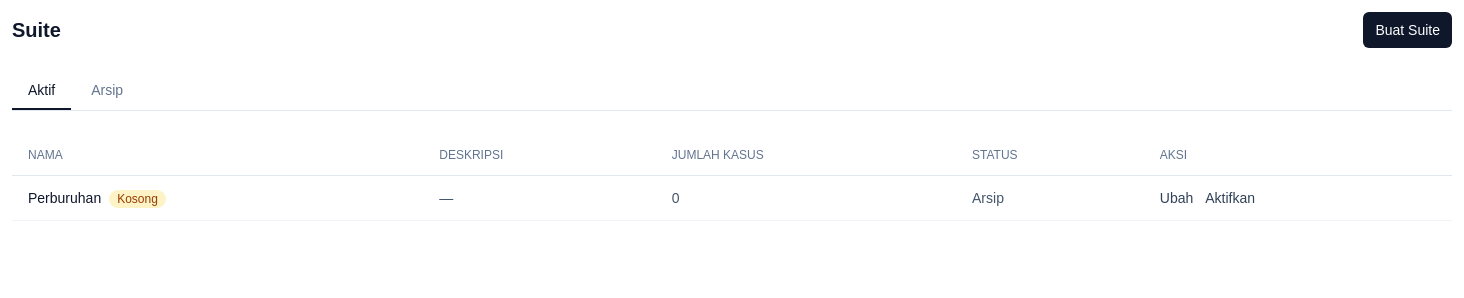
Test: SuitesPage › shows an error when unarchiving fails
This screenshot has width=1464, height=298.
Click the button with aria-label "Aktifkan Perburuhan": [1230, 198] box x1=1205 y1=188 x2=1255 y2=208
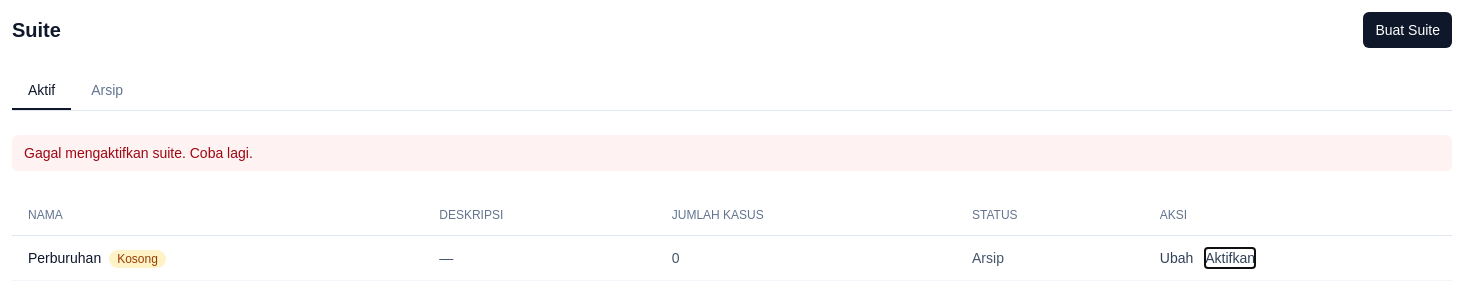
Now the text "Gagal mengaktifkan suite. Coba lagi." is shown, box x1=12 y1=135 x2=1452 y2=171
